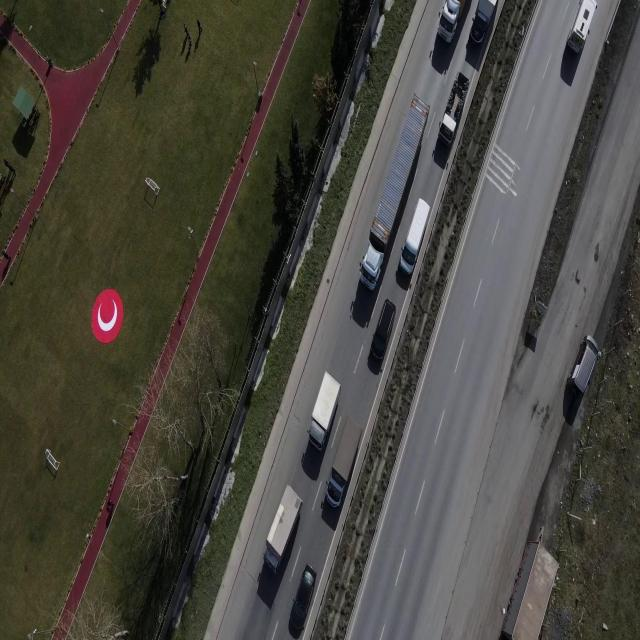p3rson: (6, 162, 16, 176), (1, 251, 11, 261), (197, 20, 202, 38), (107, 499, 115, 508), (187, 32, 192, 46), (184, 22, 188, 34), (4, 159, 8, 167), (32, 108, 36, 114)
